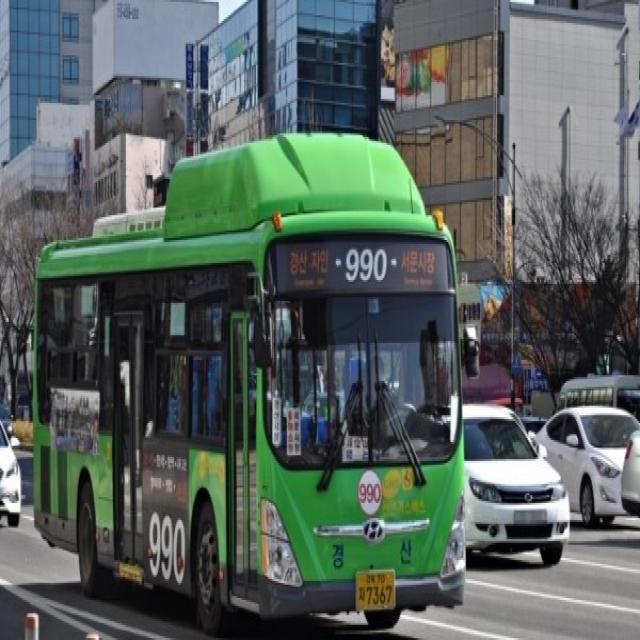bus-number: (343, 245, 389, 287)
